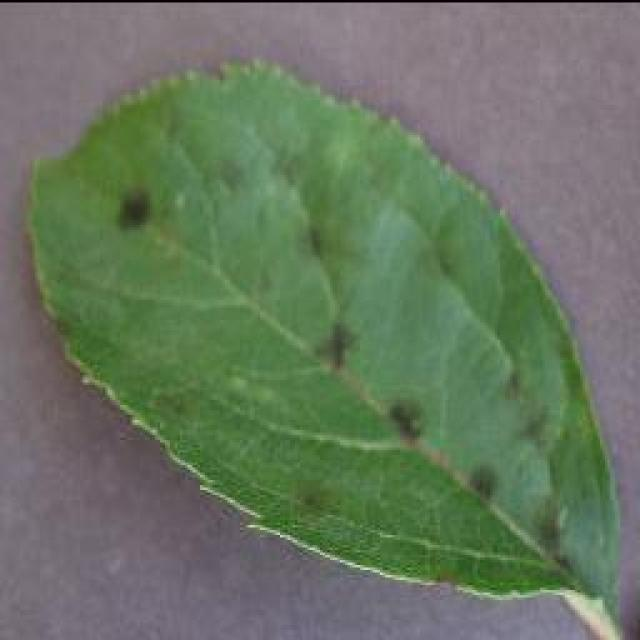apple scab disease: (22, 52, 628, 638)
